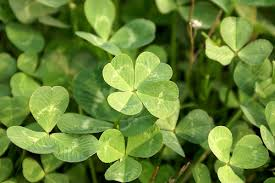4-clover: (102, 50, 180, 120)
